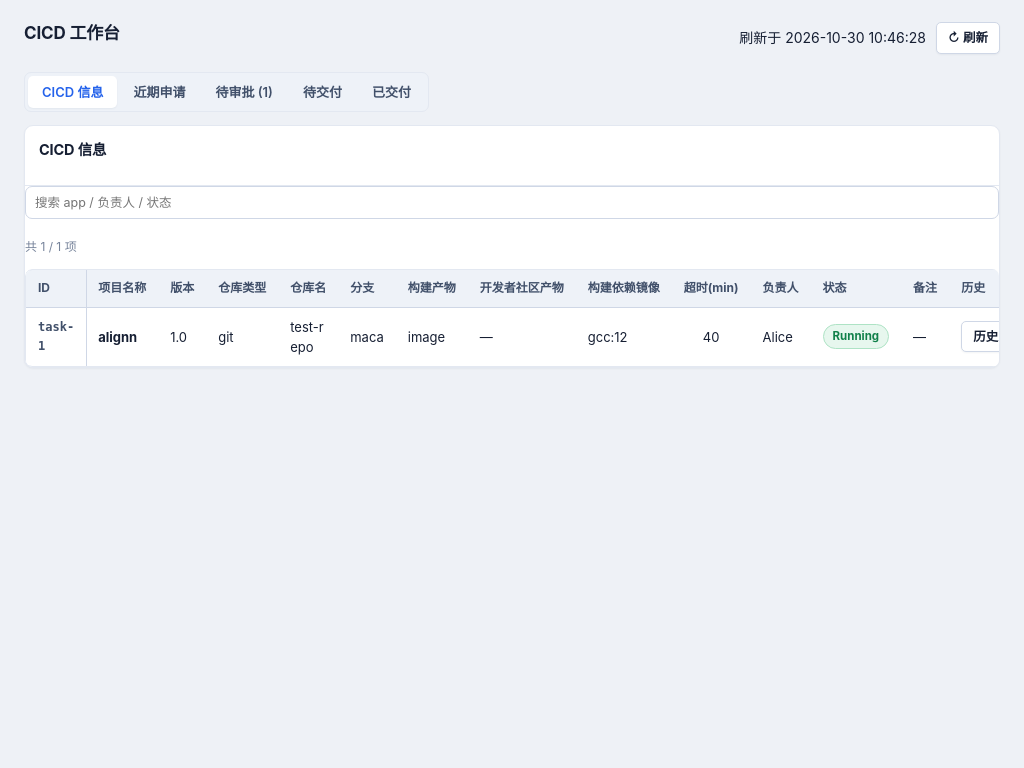
Test: CicdPage › ApproveDialog: previews Stop Jira title for Running to Stopped changes
Click the button "待审批 (1)" at x=244, y=92, box top-left (201, 76), bottom-right (287, 108)
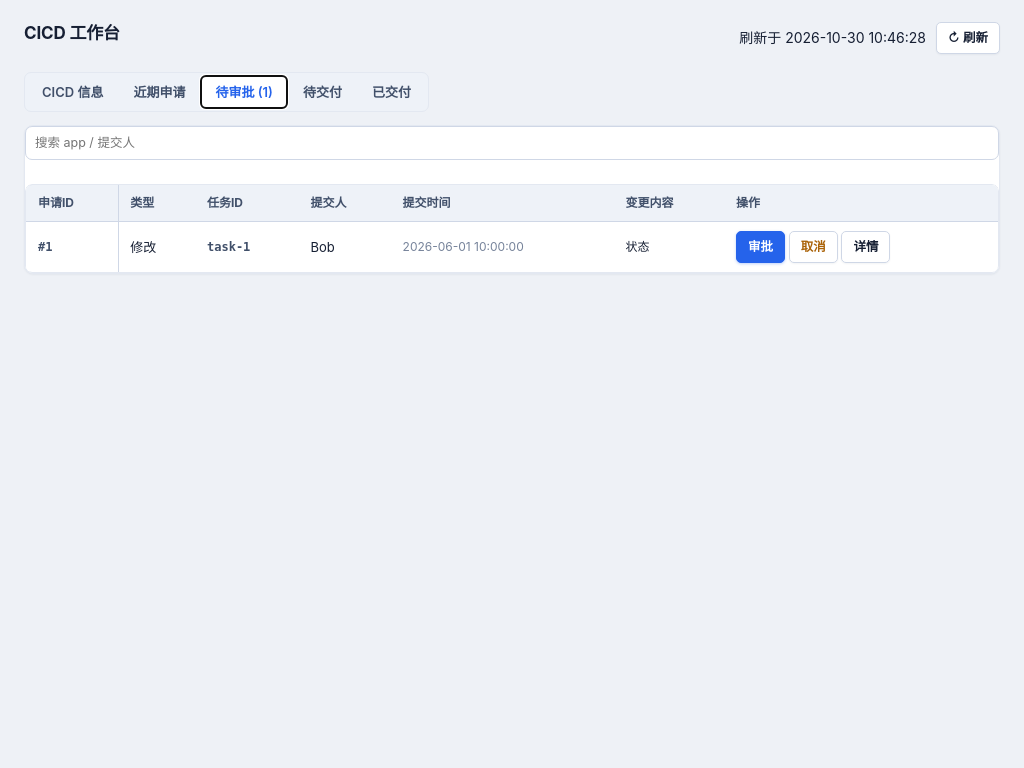
Click the button "审批" at x=761, y=247, box top-left (736, 232), bottom-right (785, 263)
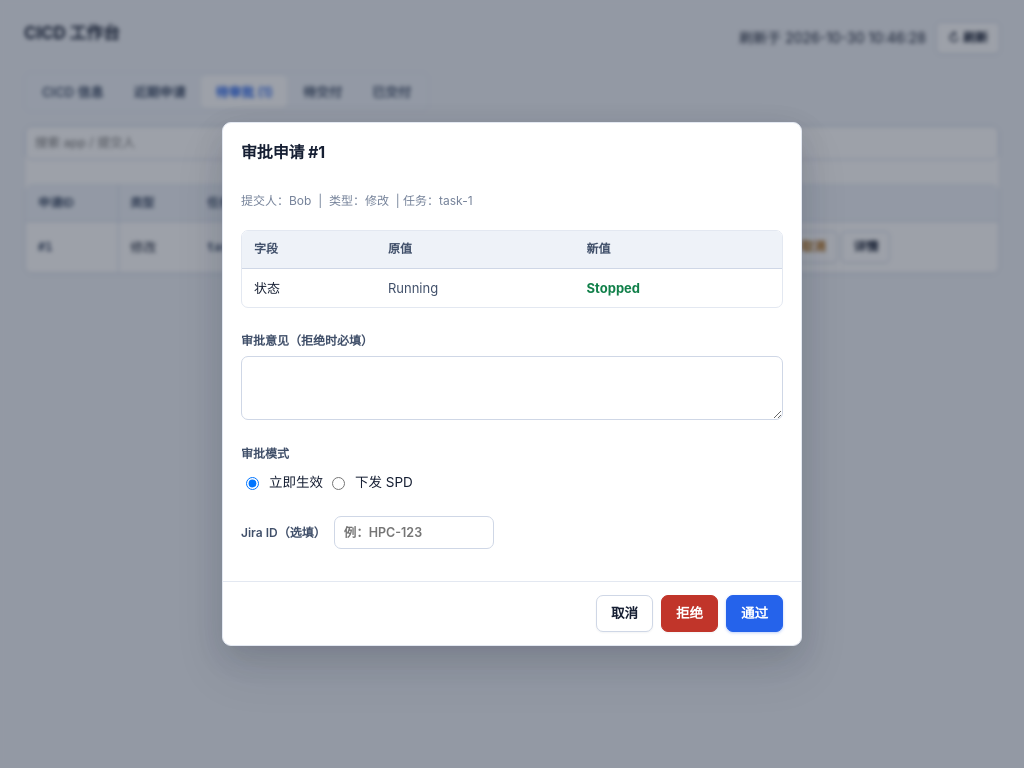
Click the radio button labelled "下发 SPD" at x=338, y=484, box top-left (332, 477), bottom-right (345, 490)
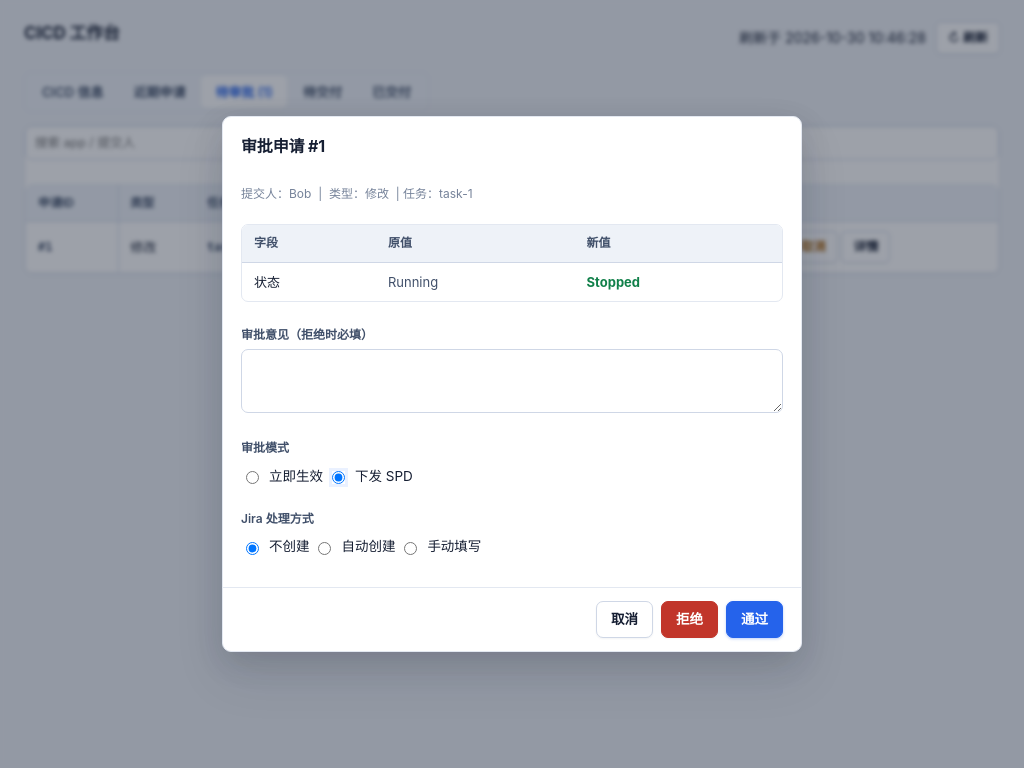
Click the radio button labelled "自动创建" at x=325, y=548, box top-left (318, 542), bottom-right (331, 555)
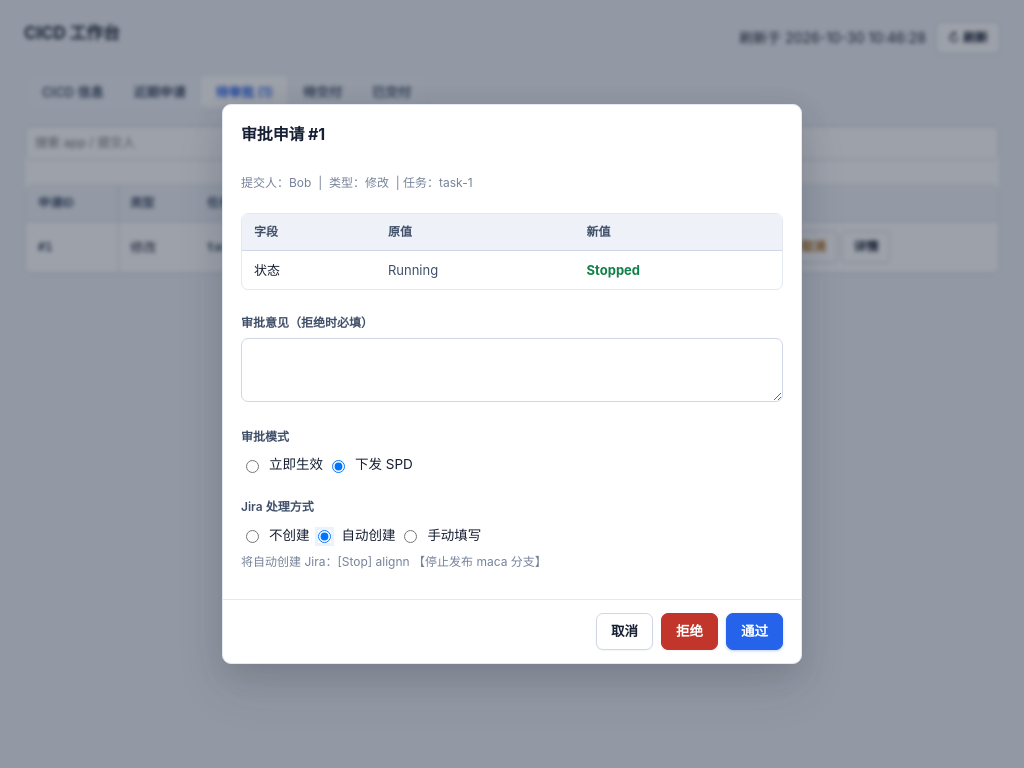
Result: the text "将自动创建 Jira：[Stop] alignn 【停止发布 maca 分支】" is shown at top-left (241, 554), bottom-right (547, 569)
